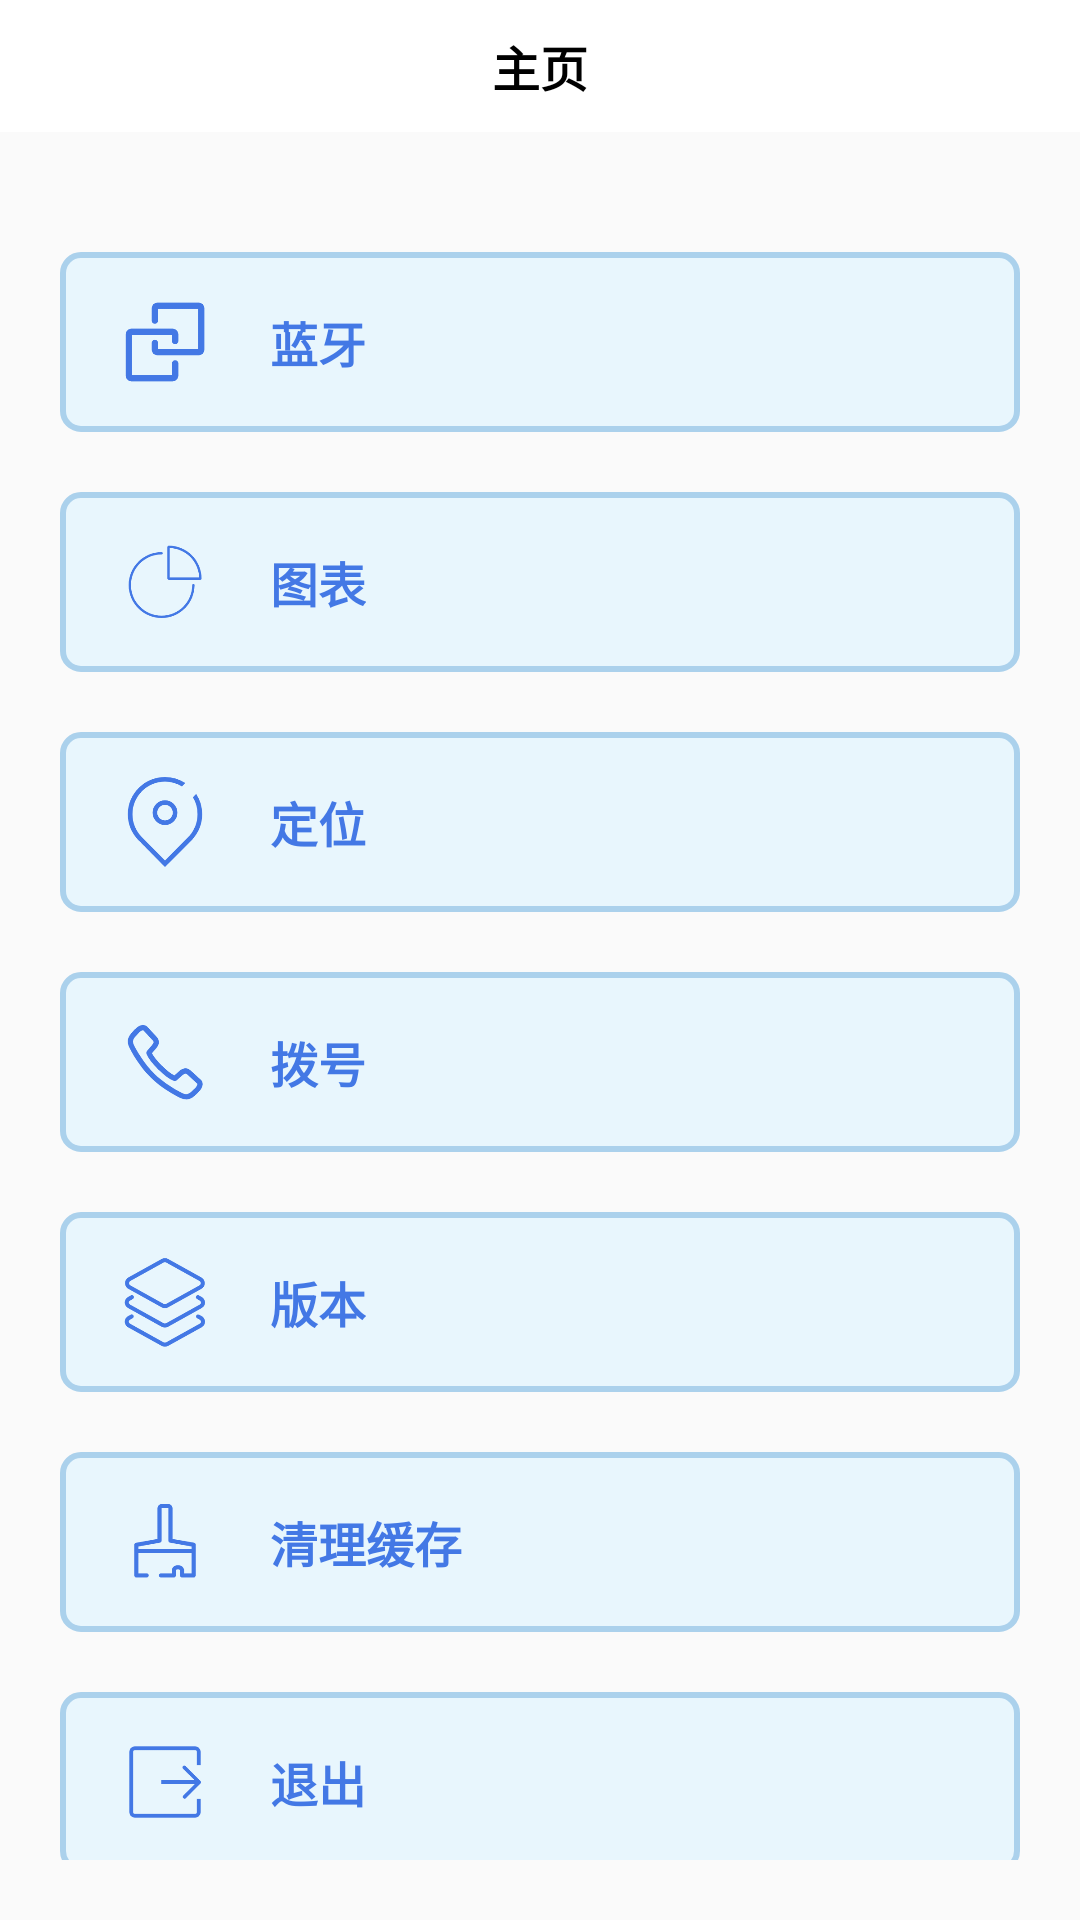

Icons on this 1080x1920 Android screen, each with its box as (x1, y1, x2, y2):
binding: (125, 302, 205, 382)
call: (128, 1025, 203, 1100)
clear: (134, 1504, 196, 1578)
exit: (129, 1746, 201, 1818)
location: (128, 777, 202, 867)
tubiao: (128, 545, 202, 618)
version: (124, 1258, 205, 1347)
